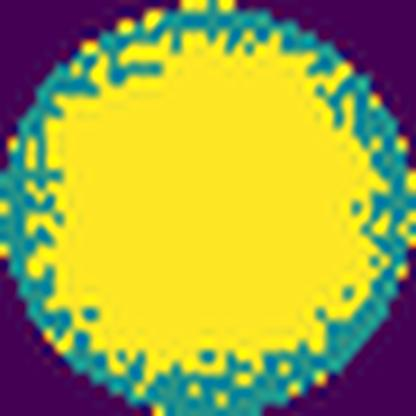Center: (43, 26, 385, 376)
